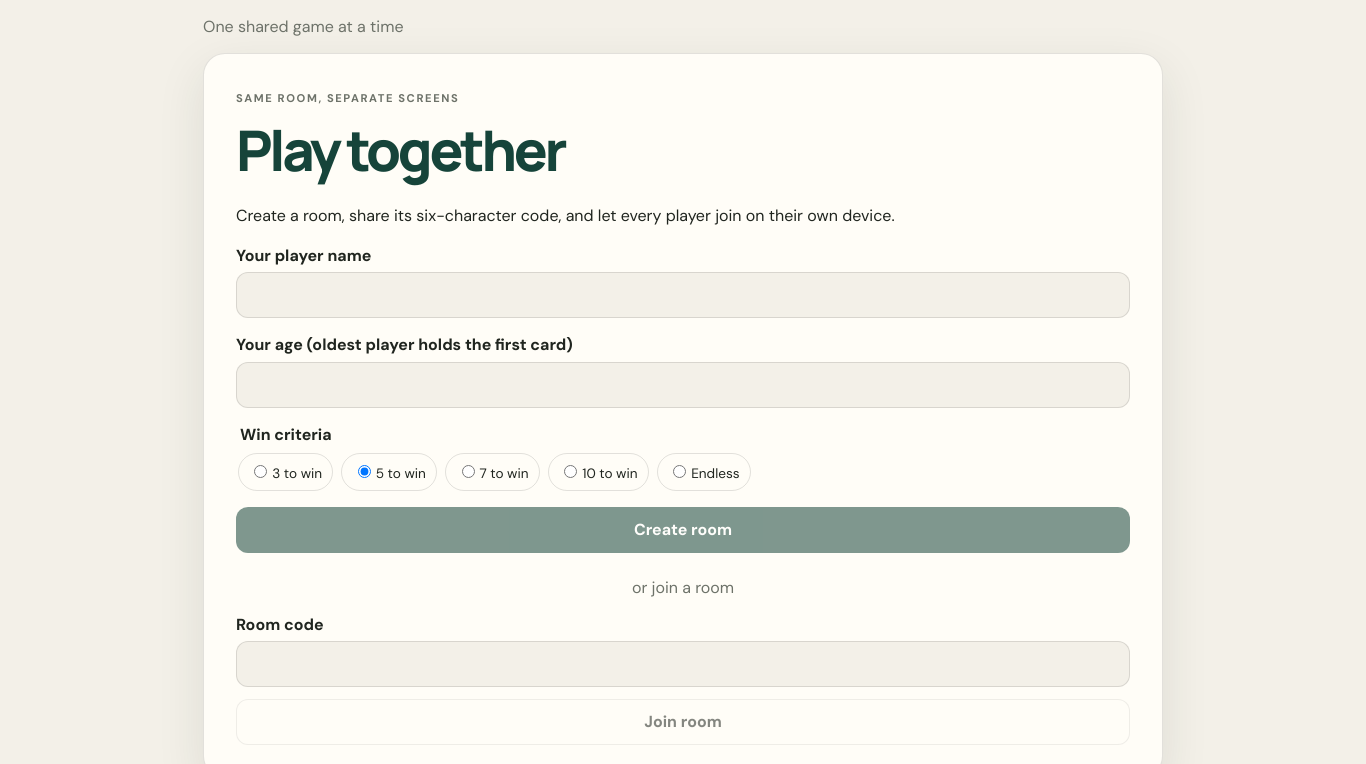
it: join errors are shown without storing a room session
Type "Ada" into the field labelled "Your player name" at point(683, 295), box 236,272 -> 1130,318
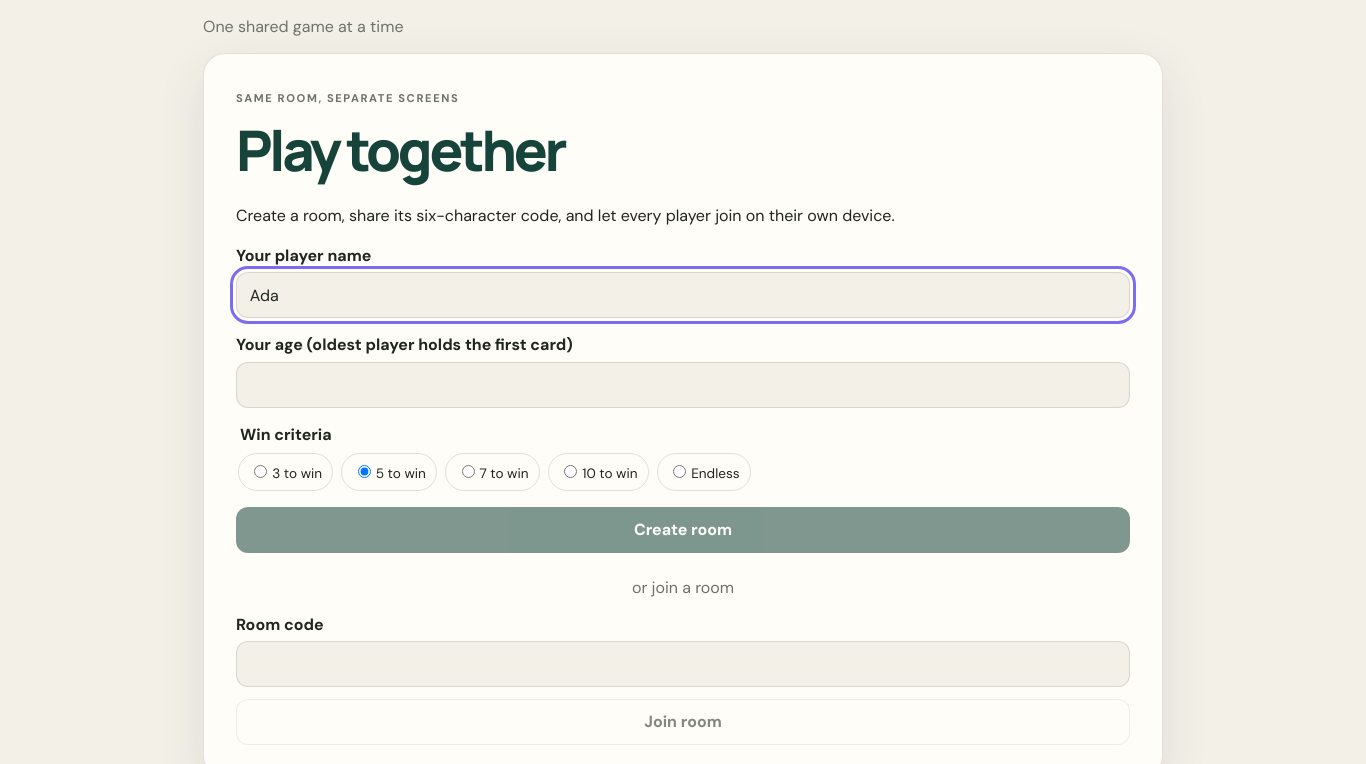
Type "40" into the number field labelled "Your age (oldest player holds the first card)" at point(683, 385), box 236,362 -> 1130,408
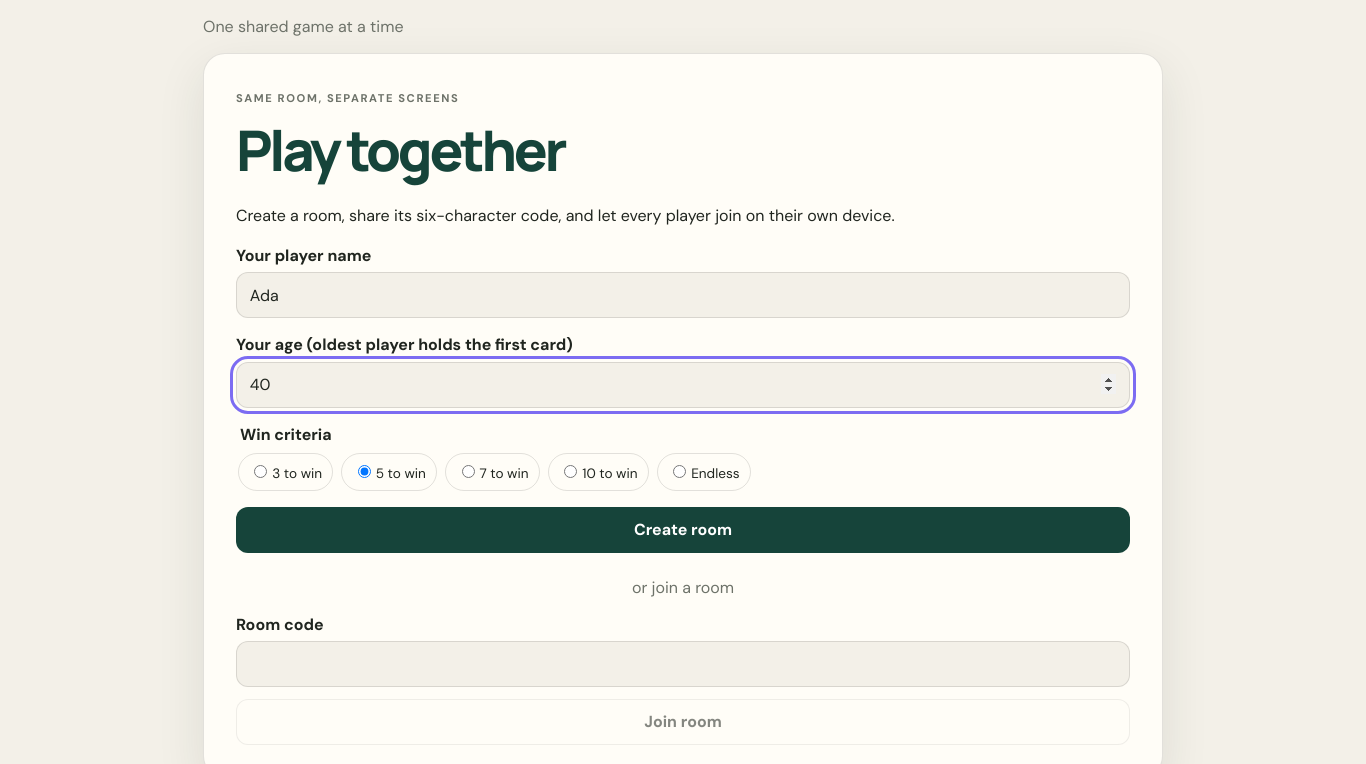
Type "ZZZZZZ" into the field labelled "Room code" at point(683, 664), box 236,641 -> 1130,687
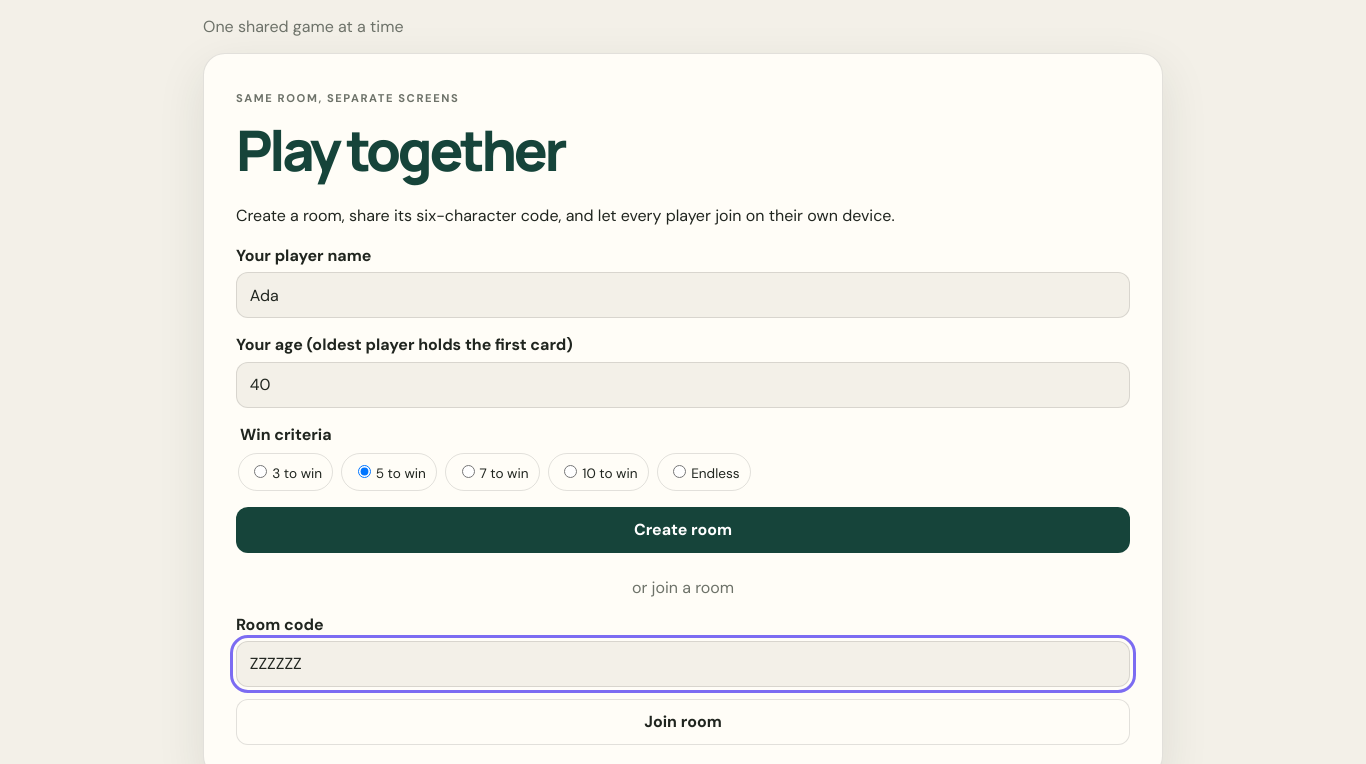
Click the button "Join room" at point(683, 722), box 236,699 -> 1130,745
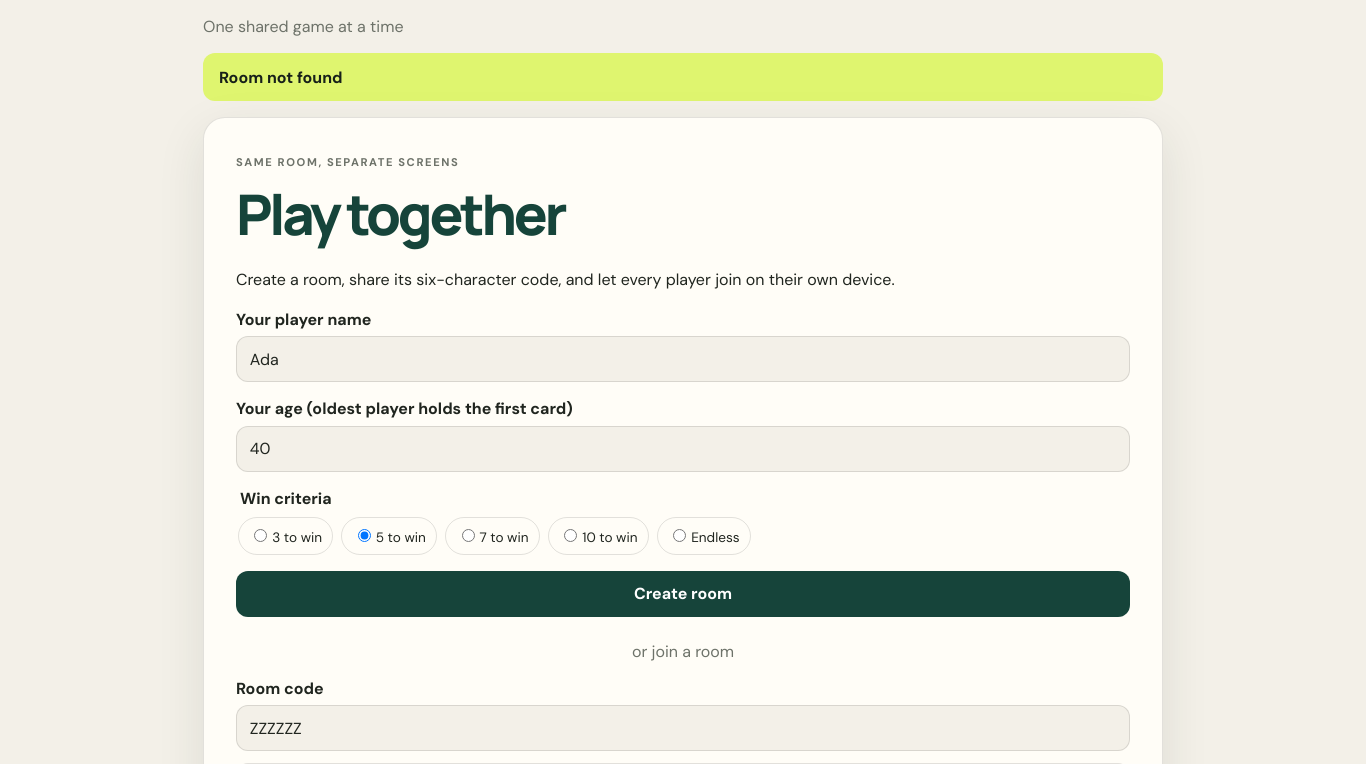
Check: the message reads "Room not found", box 219,67 -> 342,88
